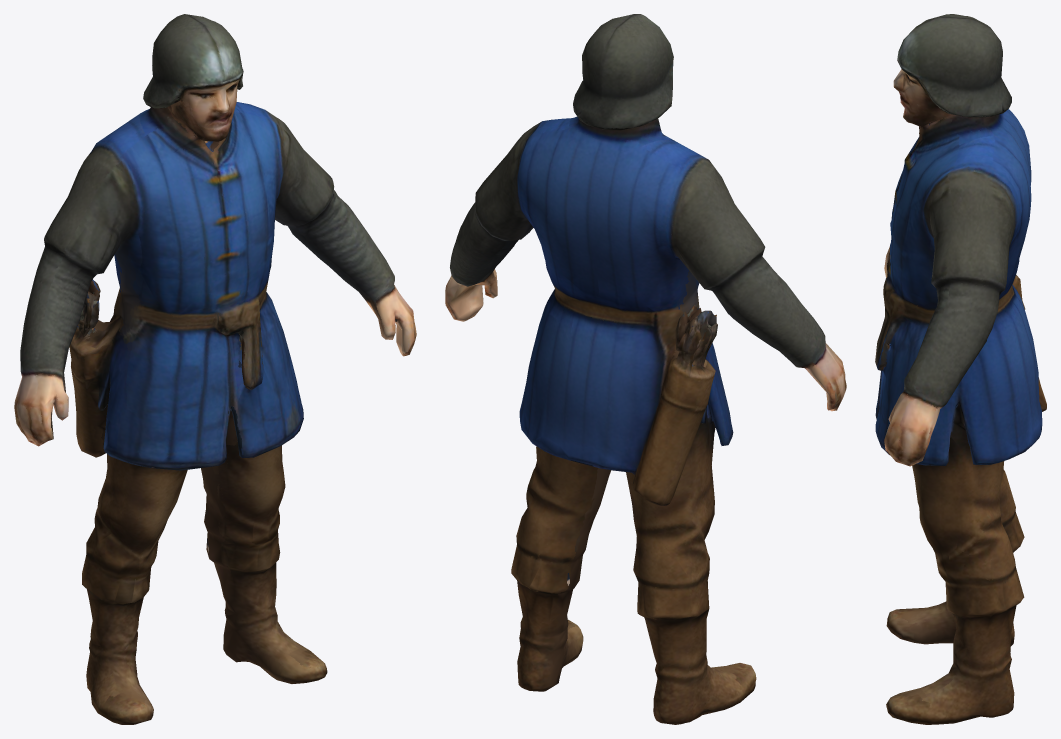
The model's file is crossbowman.glb.
3 views of the same model, side by side, from view 1: azimuth 30°, elevation 25°; view 2: azimuth 150°, elevation 25°; view 3: azimuth 270°, elevation 25° (orthographic).
Visible parts, largest first — view 1: geometry_0; view 2: geometry_0; view 3: geometry_0.
Boxes of the visible parts, x1,y1,x2,y2 form: geometry_0: (14,14,416,724); geometry_0: (445,14,846,724); geometry_0: (875,14,1046,724).
Size of the model in its own units: 0.6156 by 1 by 0.2359.
1 material, 1 textured.
